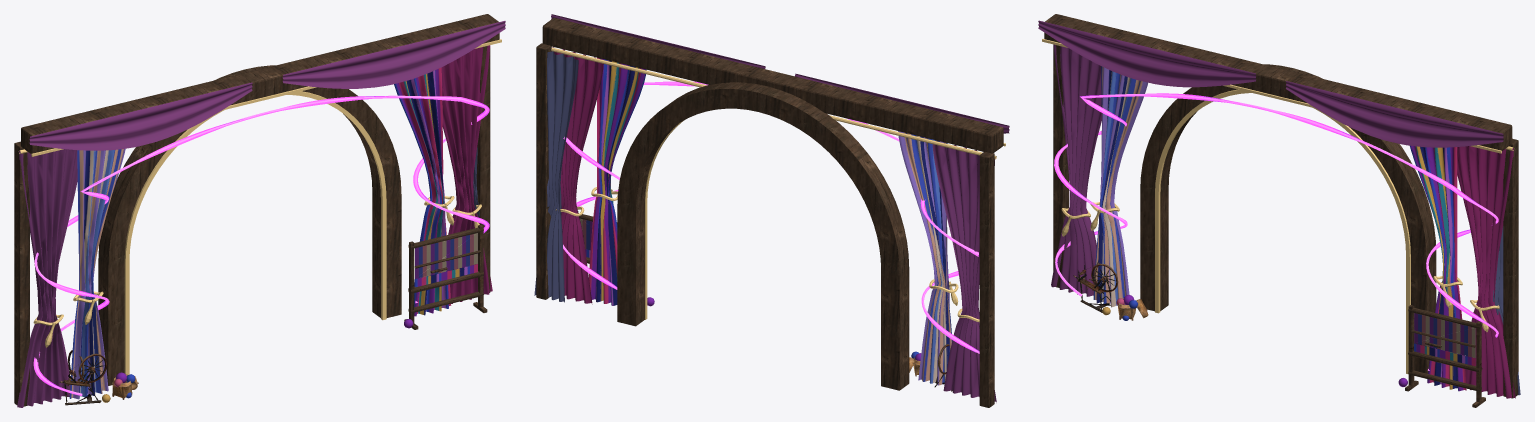
File: fachada_08.glb
The picture shows the model from 3 angles, left to right: view 1: azimuth 30°, elevation 25°; view 2: azimuth 150°, elevation 25°; view 3: azimuth 330°, elevation 25°; orthographic projection. The views are drawn at different scales.
Parts seen in each view (by area): view 1: F08_madeira, F08_roxo, F08_listrado_a, F08_magenta, F08_listrado_b, F08_ouro, F08_fio_luz, F08_urdume, F08_fio_halo, F08_spinning_wheel_01; view 2: F08_madeira, F08_roxo, F08_listrado_b, F08_listrado_a, F08_magenta, F08_azul, F08_ouro, F08_fio_luz, F08_fio_halo; view 3: F08_madeira, F08_roxo, F08_magenta, F08_listrado_a, F08_listrado_b, F08_ouro, F08_fio_luz, F08_urdume, F08_fio_halo, F08_spinning_wheel_01, F08_azul.
Part boxes in pixels (bbox=[...]): F08_madeira: bbox=[14, 14, 499, 406]; F08_roxo: bbox=[17, 21, 505, 407]; F08_listrado_a: bbox=[69, 148, 125, 399]; F08_magenta: bbox=[441, 45, 492, 303]; F08_listrado_b: bbox=[394, 67, 477, 316]; F08_ouro: bbox=[18, 39, 501, 374]; F08_fio_luz: bbox=[34, 95, 488, 395]; F08_urdume: bbox=[415, 233, 477, 278]; F08_fio_halo: bbox=[33, 96, 489, 393]; F08_spinning_wheel_01: bbox=[59, 350, 106, 405]; F08_madeira: bbox=[536, 18, 1003, 407]; F08_roxo: bbox=[551, 14, 1009, 402]; F08_listrado_b: bbox=[585, 57, 646, 305]; F08_listrado_a: bbox=[898, 131, 952, 385]; F08_magenta: bbox=[552, 47, 603, 304]; F08_azul: bbox=[534, 51, 578, 302]; F08_ouro: bbox=[551, 47, 1005, 322]; F08_fio_luz: bbox=[563, 82, 979, 353]; F08_fio_halo: bbox=[563, 81, 979, 352]; F08_madeira: bbox=[1044, 14, 1518, 407]; F08_roxo: bbox=[1038, 20, 1503, 296]; F08_magenta: bbox=[1457, 146, 1515, 398]; F08_listrado_a: bbox=[1093, 66, 1147, 307]; F08_listrado_b: bbox=[1410, 145, 1475, 391]; F08_ouro: bbox=[1042, 39, 1514, 374]; F08_fio_luz: bbox=[1055, 94, 1498, 370]; F08_urdume: bbox=[1414, 313, 1475, 357]; F08_fio_halo: bbox=[1054, 93, 1498, 337]; F08_spinning_wheel_01: bbox=[1073, 261, 1118, 312]; F08_azul: bbox=[1493, 226, 1520, 395].
Bounding box in the file's own units: 12.4 × 7.04 × 1.31.
Materials: 13 (10 with a texture image).
